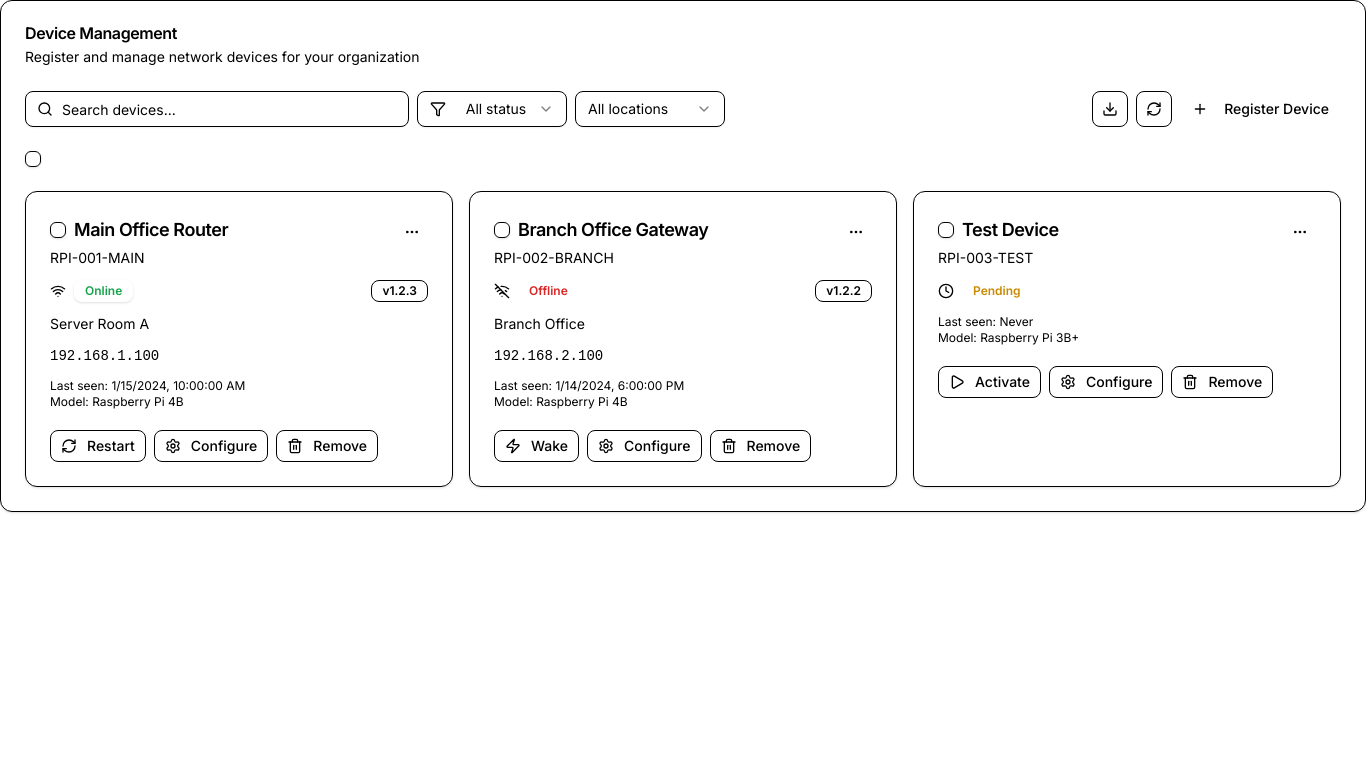
DeviceRegistration › Device Configuration › should allow editing device details
This screenshot has width=1366, height=768.
Click the button "Configure" below "1/15/2024, 10:00:00 AM".
click(211, 446)  # box x1=154 y1=430 x2=268 y2=462
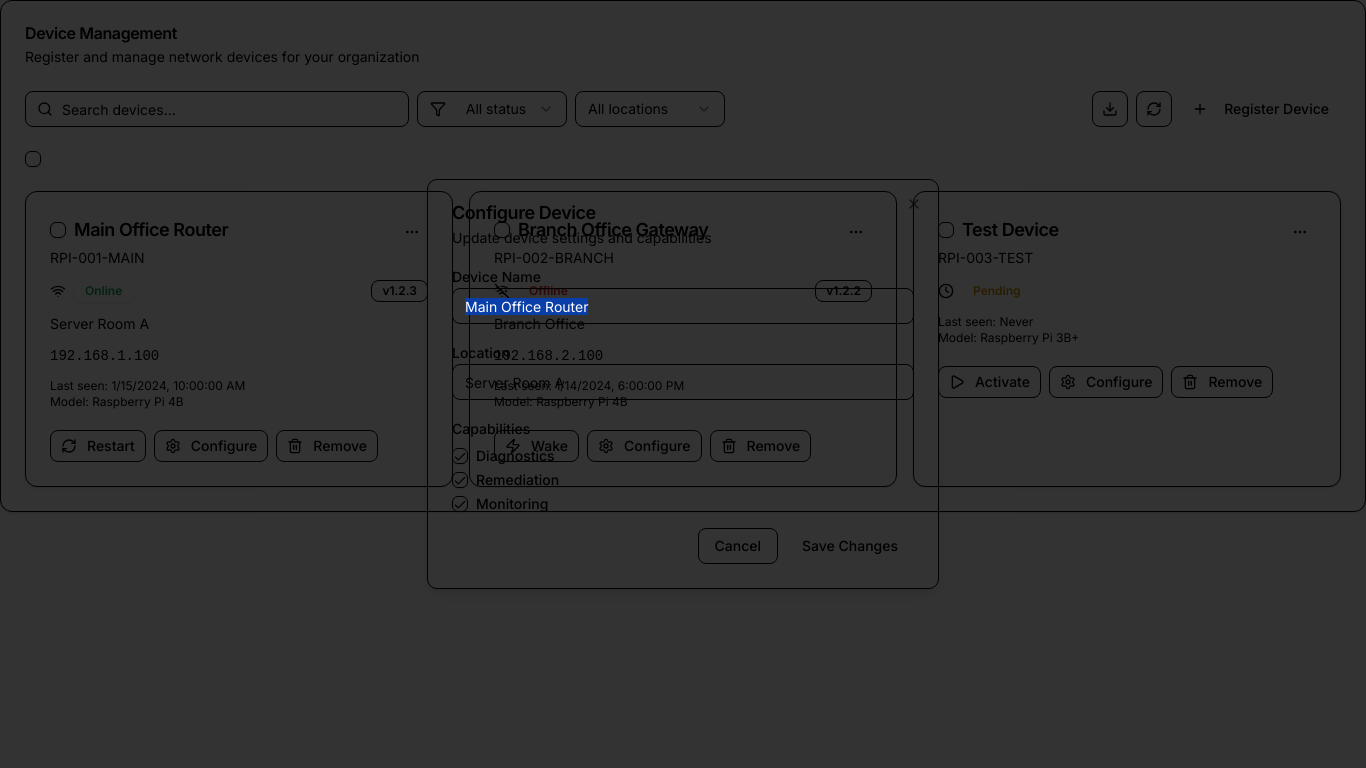
Now the dialog is shown, box x1=427 y1=179 x2=939 y2=589
Now the heading "Configure Device" is shown, box x1=452 y1=202 x2=596 y2=223
Now the field showing "Main Office Router" is shown, box x1=452 y1=288 x2=914 y2=324
